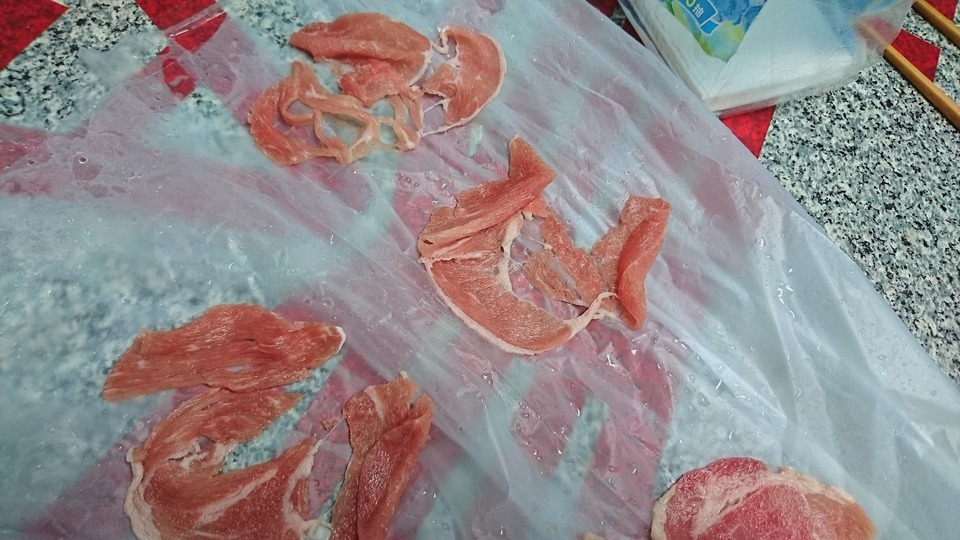restructured meat: (107, 292, 429, 540), (420, 133, 676, 359), (254, 13, 507, 166)
